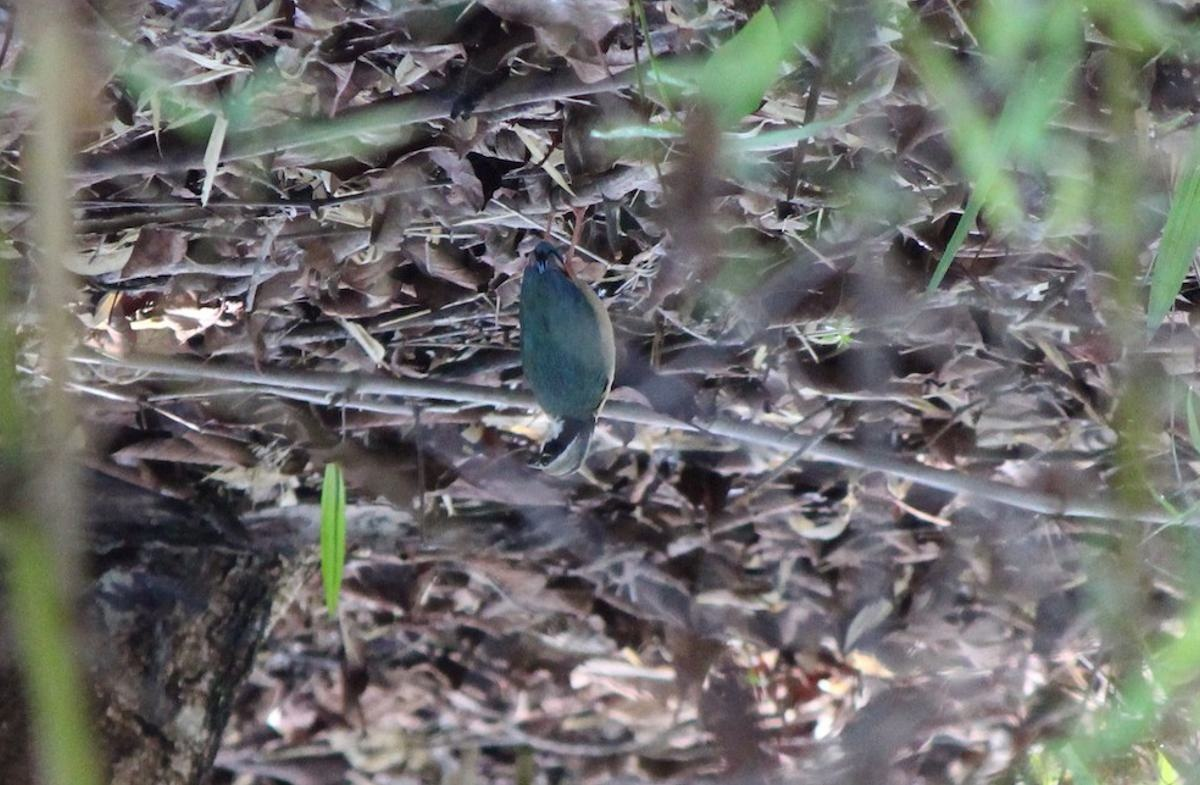pitta: (483, 219, 619, 502)
